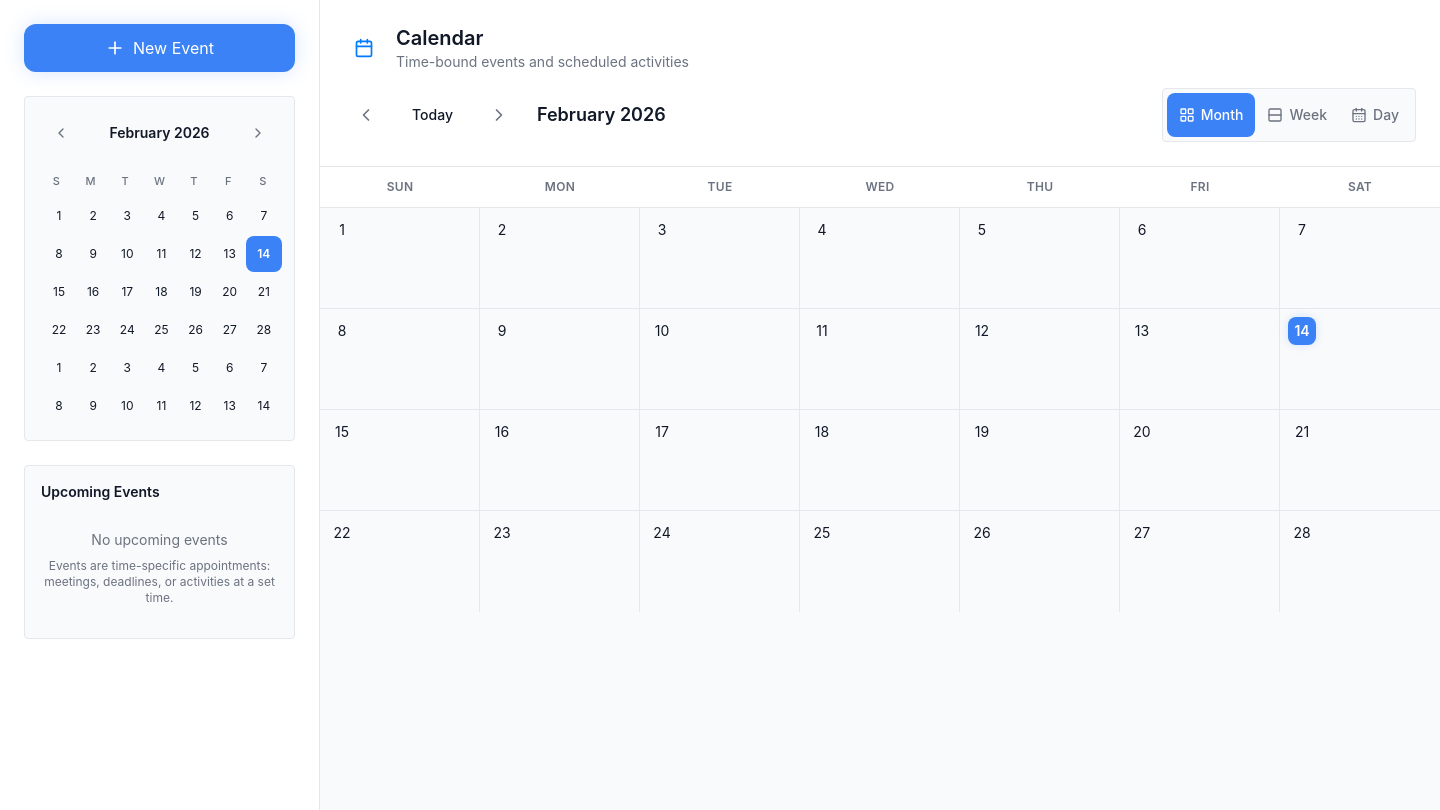
it: CalendarView › View Switching › switches to day view when Day button is clicked
Click the button "Day".
click(1375, 115)  # box top-left (1339, 93), bottom-right (1411, 137)
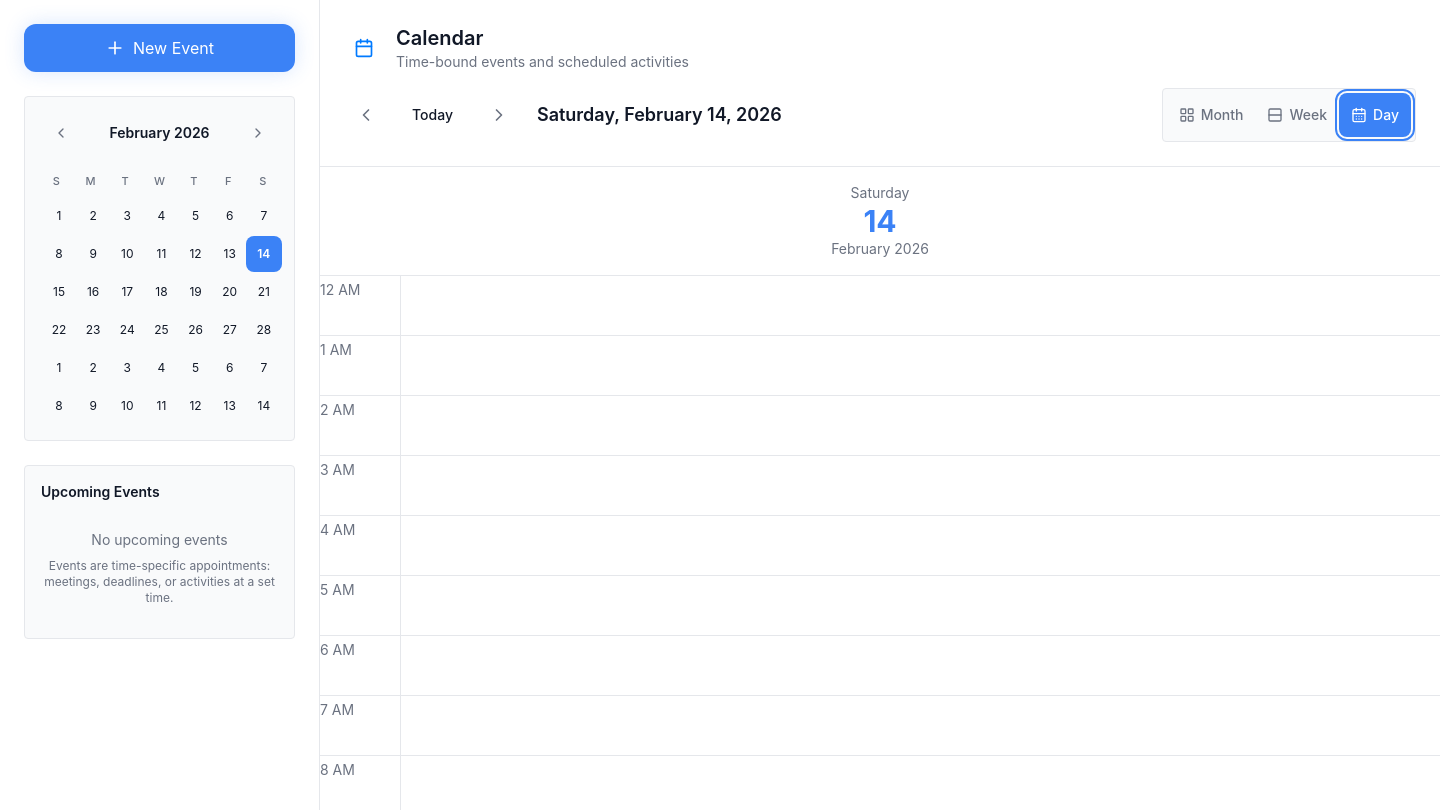
Now the text "12 AM" is shown, box top-left (320, 276), bottom-right (400, 336)
